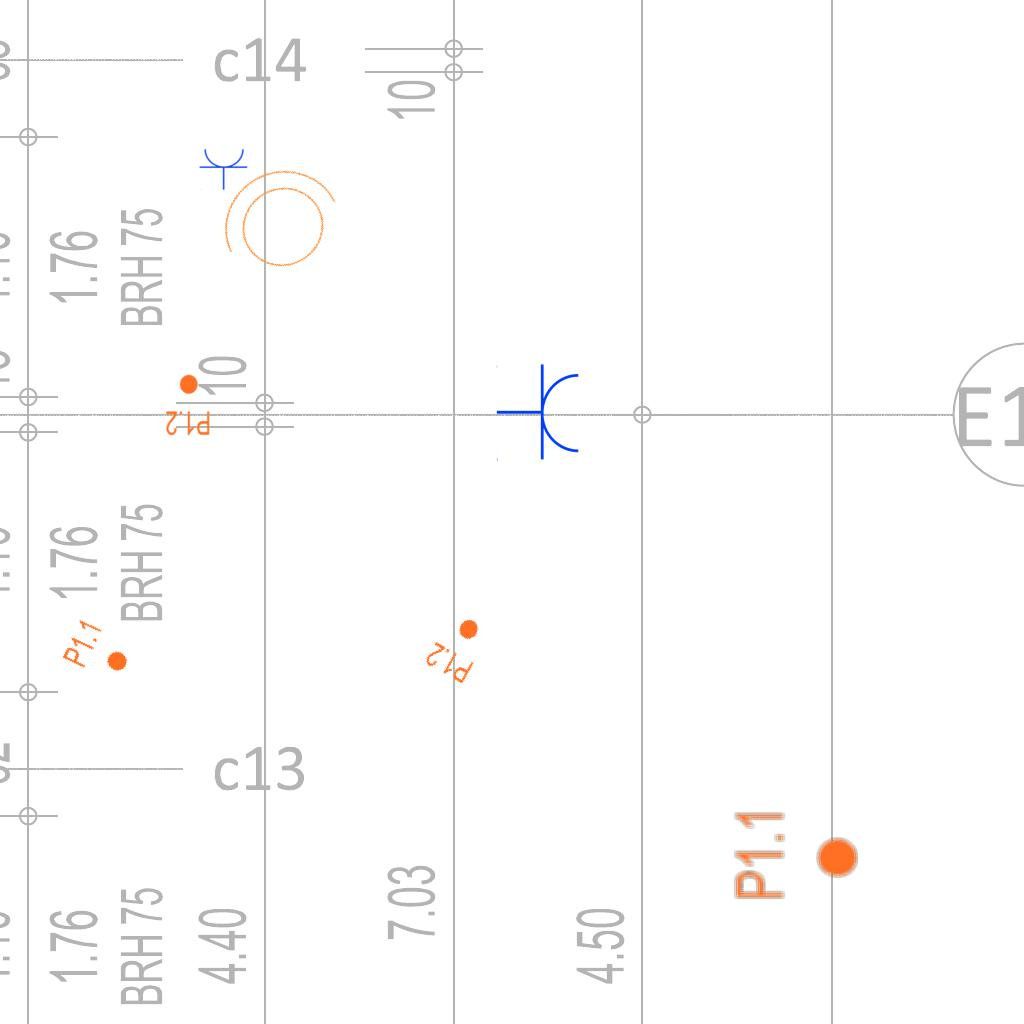Downlight_LED_Einbauleuchten_Flur: (732, 808, 860, 901), (422, 607, 494, 687), (60, 616, 138, 686), (165, 373, 211, 437)
Scheinwerfer_fuer_Alarmbeleuchtung: (194, 144, 362, 304)
Schukosteckdose_einfach: (496, 363, 583, 463), (199, 147, 249, 190)
